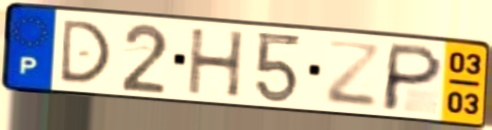2: (120, 19, 171, 97)
5: (252, 29, 304, 105)
D: (57, 17, 114, 85)
H: (186, 27, 247, 100)
P: (377, 40, 447, 114)
Z: (323, 37, 384, 110)
